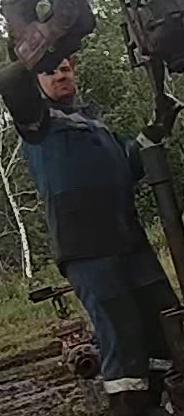vest: (22, 111, 142, 263)
